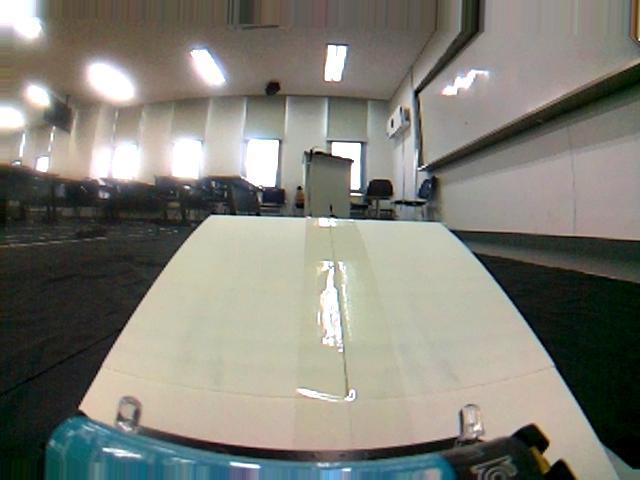hill_up: (0, 205, 640, 480)
